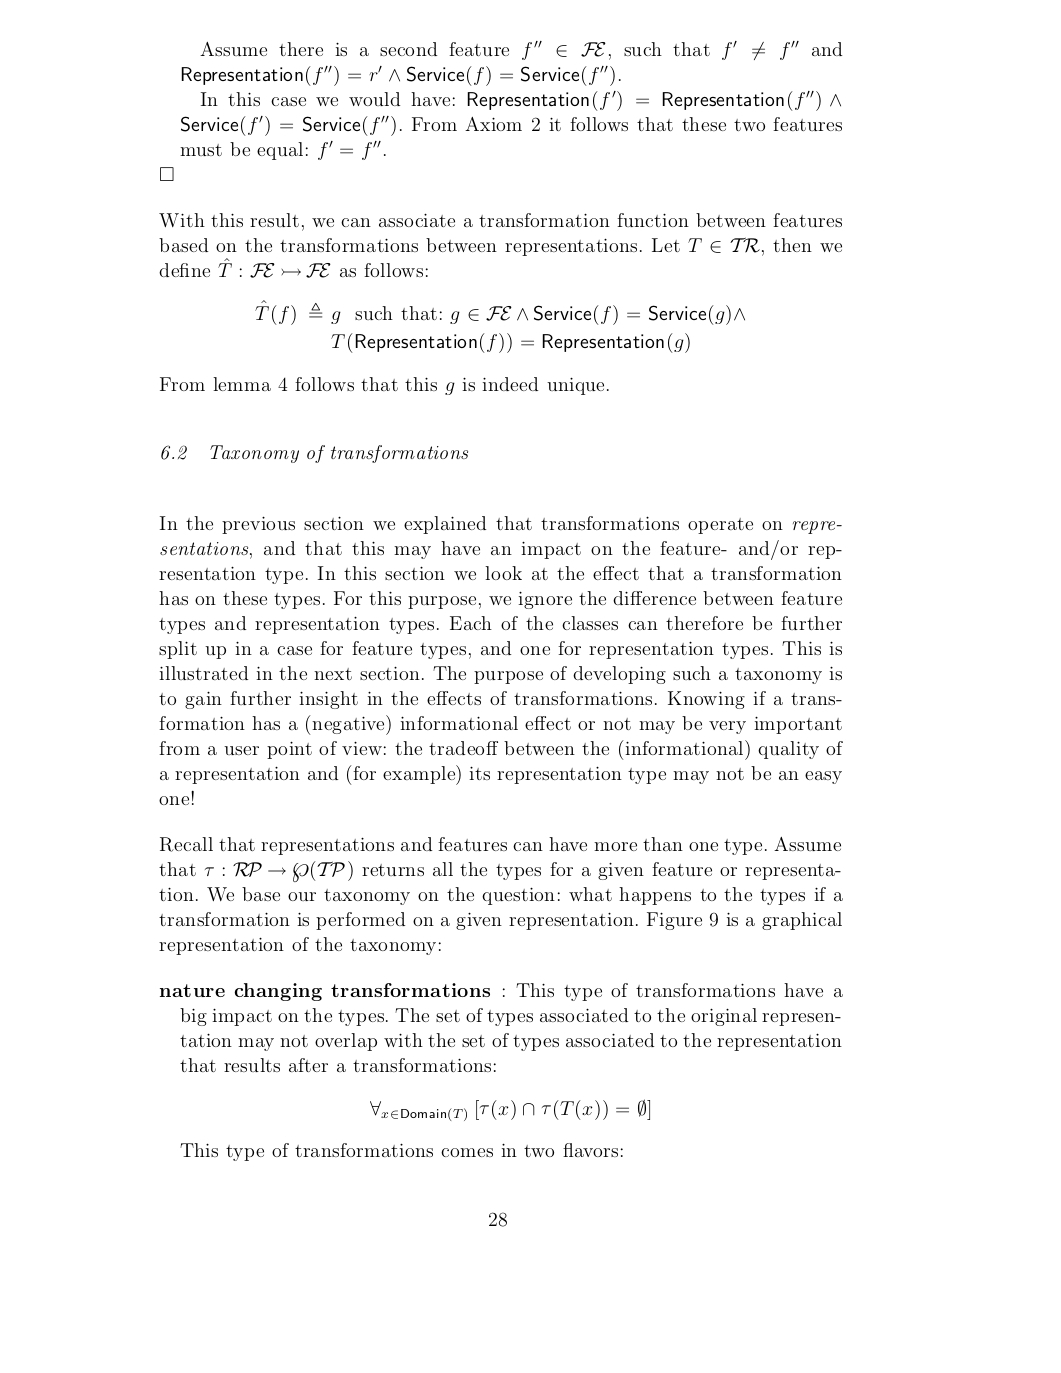formula: (255, 299, 744, 325), (331, 332, 689, 353), (370, 1098, 650, 1122)
